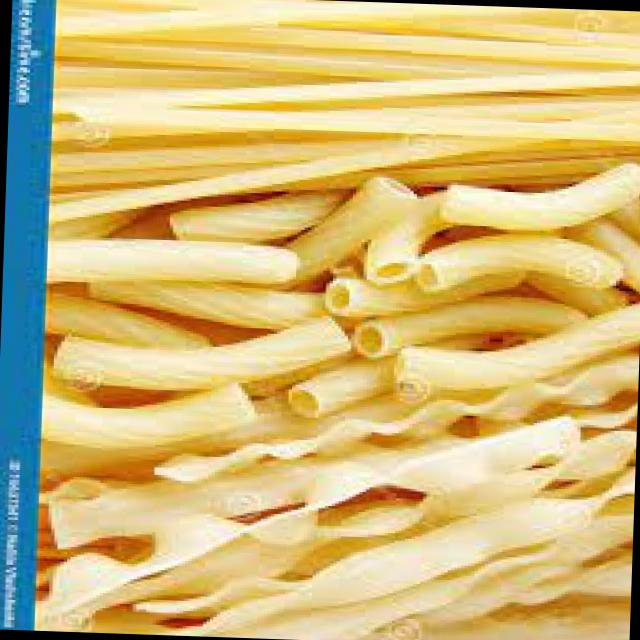Pasta: (13, 128, 632, 586), (43, 370, 628, 640), (64, 0, 640, 163)
